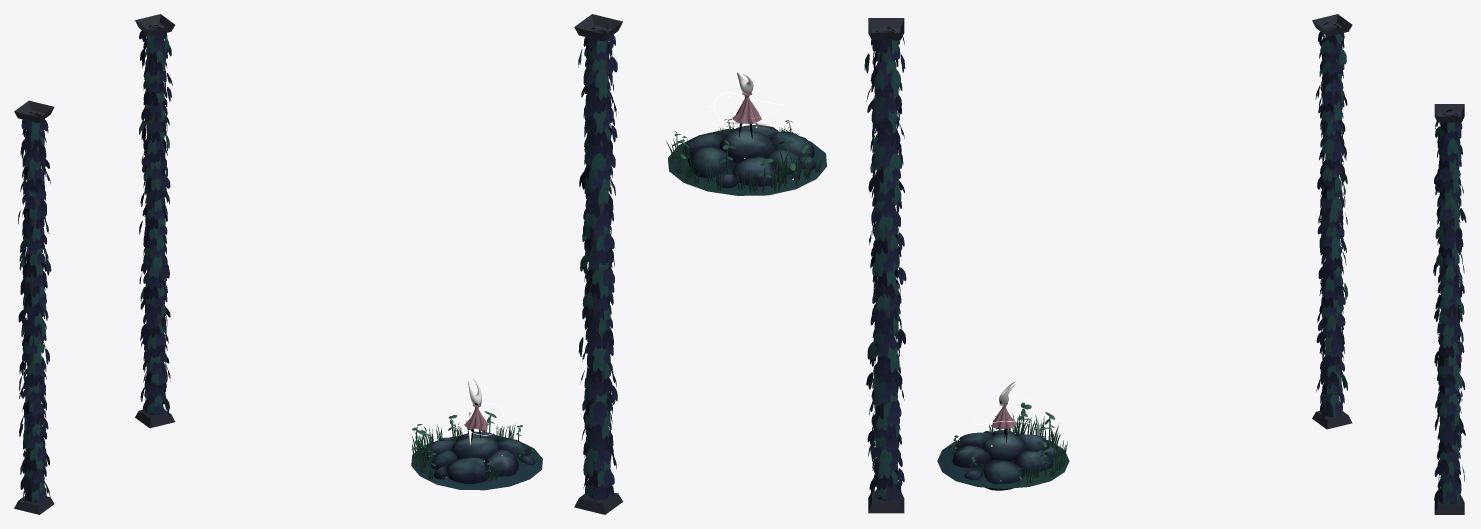
3 views of the same model, side by side, from view 1: azimuth 30°, elevation 25°; view 2: azimuth 150°, elevation 25°; view 3: azimuth 270°, elevation 25° (orthographic). The views are drawn at different scales.
Visible parts, largest first — view 1: leaves, ground, grass; view 2: leaves, ground, grass, hornet; view 3: leaves, ground, grass.
Part boxes in pixels (x1,y1,x2,y2): leaves: (18,25,172,501); ground: (14,14,542,514); grass: (411,411,525,481); leaves: (578,27,906,501); ground: (574,14,904,514); grass: (666,119,822,192); hornet: (732,72,761,138); leaves: (1315,22,1466,505); ground: (937,14,1464,514); grass: (949,402,1067,483).
Size of the model in its own units: 2929 by 3054 by 3691.
5 materials, 4 textured.
